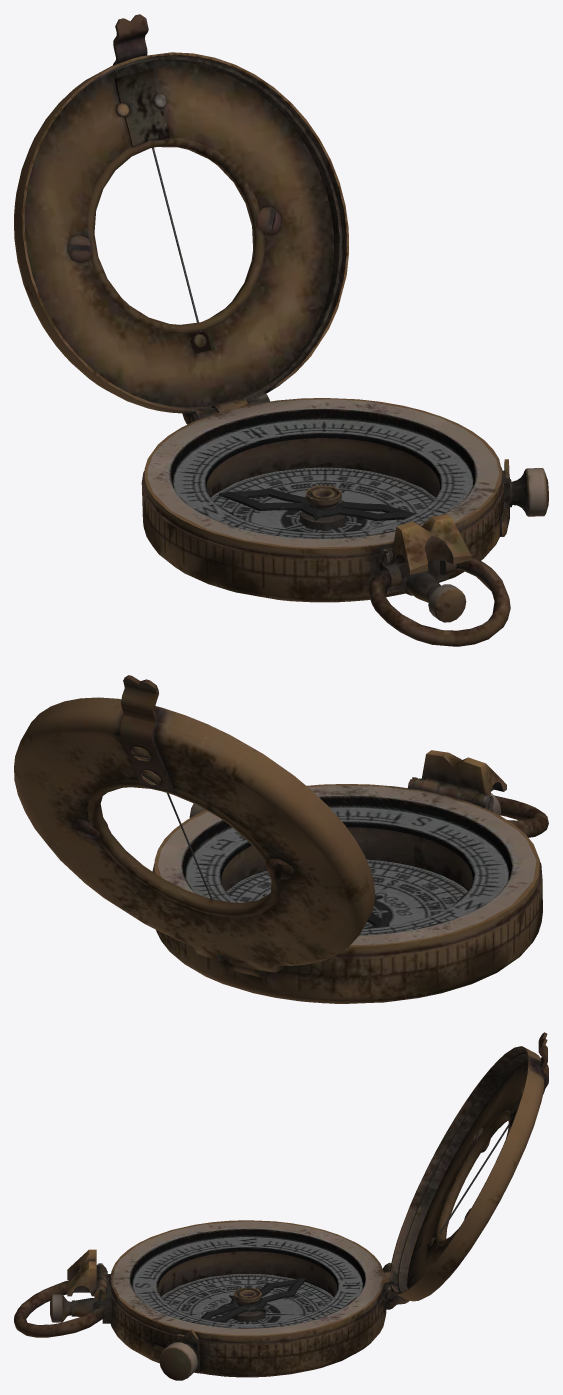
File: seadogs_compass.glb
3 renders of one model, top to bottom at view 1: azimuth 30°, elevation 25°; view 2: azimuth 150°, elevation 25°; view 3: azimuth 270°, elevation 25°, orthographic. The views are drawn at different scales.
Parts seen in each view (by area): view 1: Cylinder.001, Cylinder.005, Cylinder.002; view 2: Cylinder.001, Cylinder.005; view 3: Cylinder.005, Cylinder.001, Cylinder.002.
Boxes of the visible parts, x1,y1,x2,y2 form: Cylinder.001: (14, 14, 348, 424); Cylinder.005: (141, 398, 548, 646); Cylinder.002: (219, 488, 415, 521); Cylinder.001: (14, 675, 374, 972); Cylinder.005: (152, 750, 548, 1003); Cylinder.005: (14, 1220, 397, 1380); Cylinder.001: (382, 1032, 548, 1304); Cylinder.002: (201, 1278, 306, 1322).
Bounding box in the file's own units: 0.0812 × 0.0866 × 0.1441.
1 material, 1 textured.
